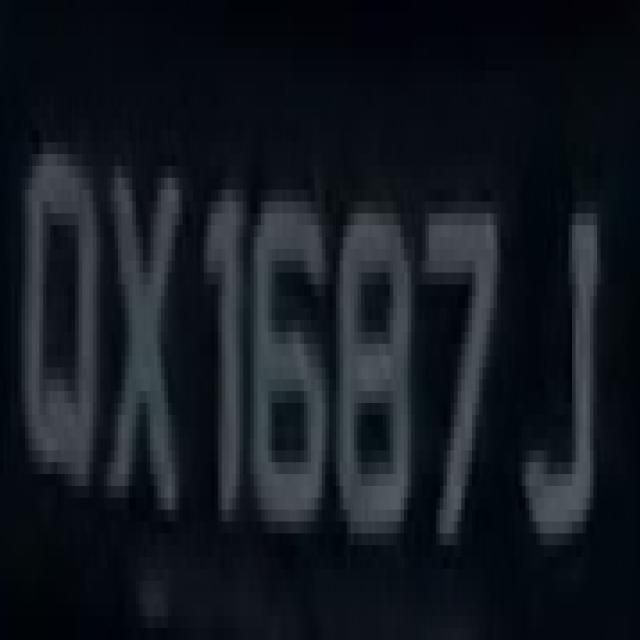1: (211, 71, 250, 545)
6: (250, 142, 326, 569)
7: (404, 154, 508, 557)
8: (336, 154, 415, 581)
J: (504, 190, 612, 545)
Q: (14, 83, 100, 510)
X: (104, 95, 182, 581)
